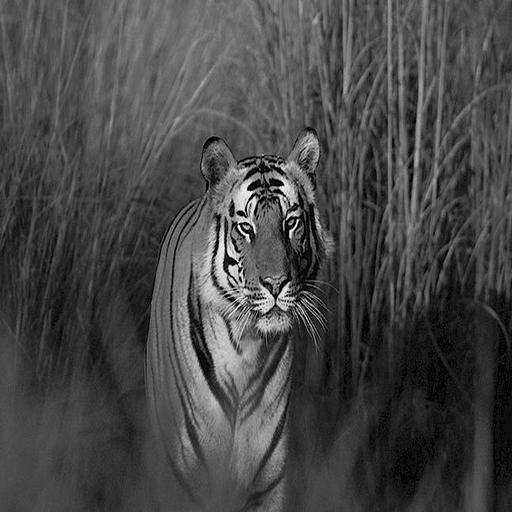Tiger: (123, 120, 339, 512)
